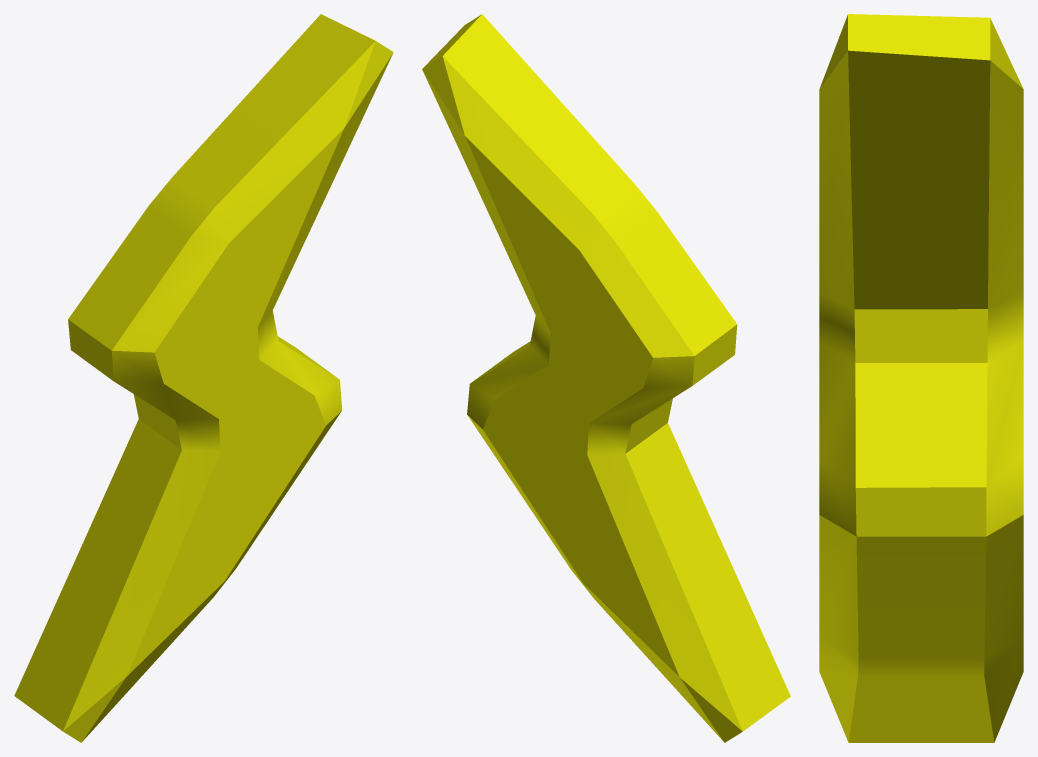
Rendered from SpeedPowerupPrefab.fbx.
3 renders of one model, left to right at view 1: azimuth 30°, elevation 25°; view 2: azimuth 150°, elevation 25°; view 3: azimuth 270°, elevation 25°, orthographic. The views are drawn at different scales.
Parts seen in each view (by area): view 1: pCube1; view 2: pCube1; view 3: pCube1.
Part boxes in pixels (<box>): pCube1: <box>14,14,393,742</box>; pCube1: <box>422,14,790,742</box>; pCube1: <box>819,14,1023,742</box>.
Size of the model in its own units: 2.8 by 5.1 by 1.
